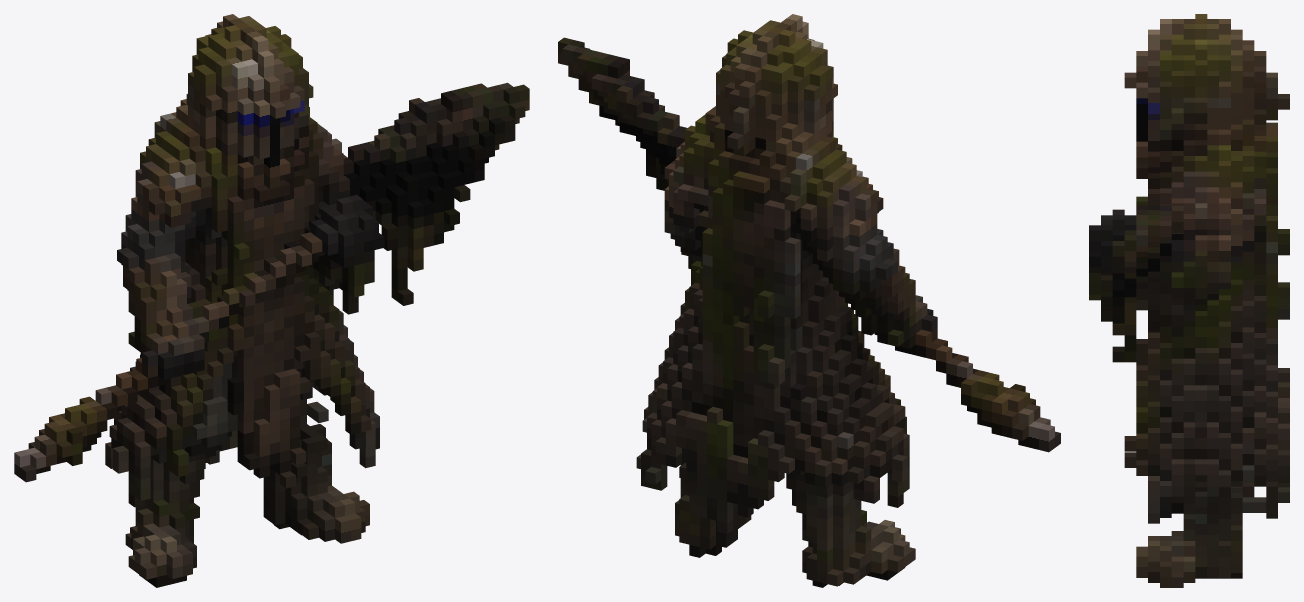
File: u_lancier.glb
The picture shows the model from 3 angles, left to right: view 1: azimuth 30°, elevation 25°; view 2: azimuth 150°, elevation 25°; view 3: azimuth 270°, elevation 25°; orthographic projection.
Visible parts, largest first — view 1: lancier_body; view 2: lancier_body; view 3: lancier_body.
Part boxes in pixels (left/top/right/bottom): lancier_body: left=14, top=14, right=529, bottom=587; lancier_body: left=558, top=14, right=1060, bottom=587; lancier_body: left=1089, top=14, right=1289, bottom=587.
Size of the model in its own units: 1.38 by 1.38 by 0.4781.
Materials: 1 (1 with a texture image).
